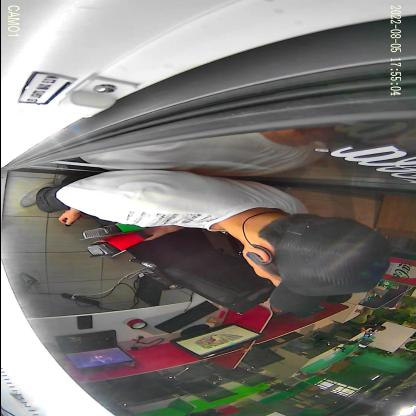green: (78, 222, 152, 240)
red: (86, 230, 152, 258)
